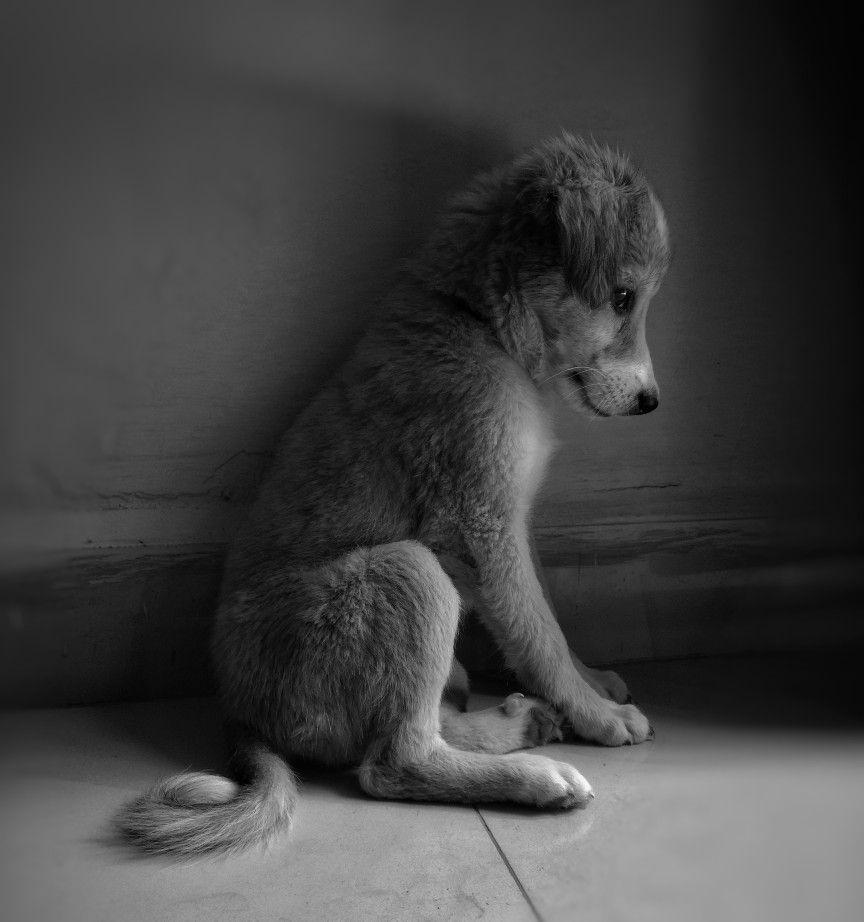puppy-dog: (106, 130, 677, 870)
